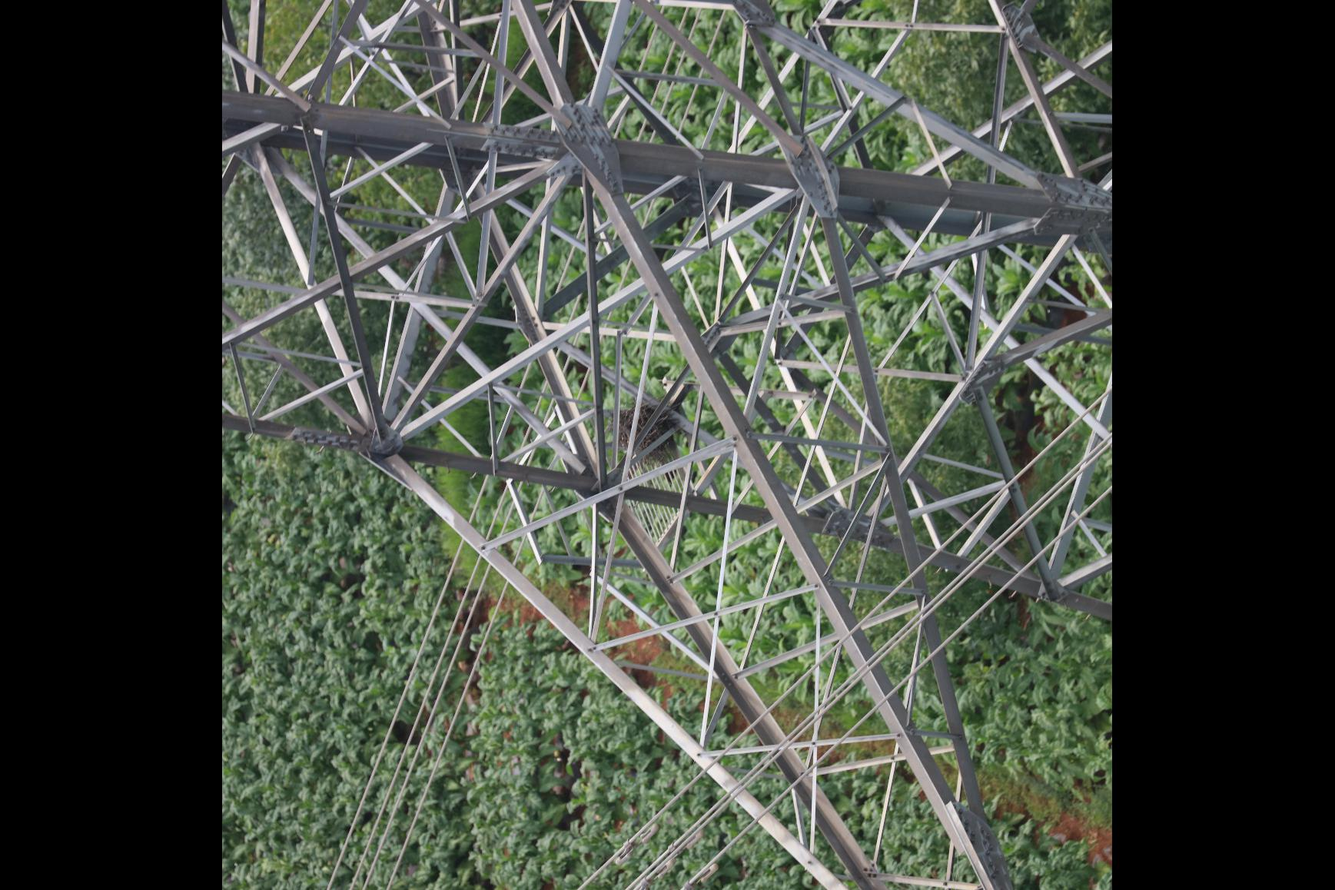damper: (612, 821, 663, 867), (635, 855, 677, 890)
nest: (616, 402, 681, 466)
